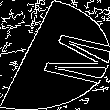M_W: (9, 25, 101, 85)
